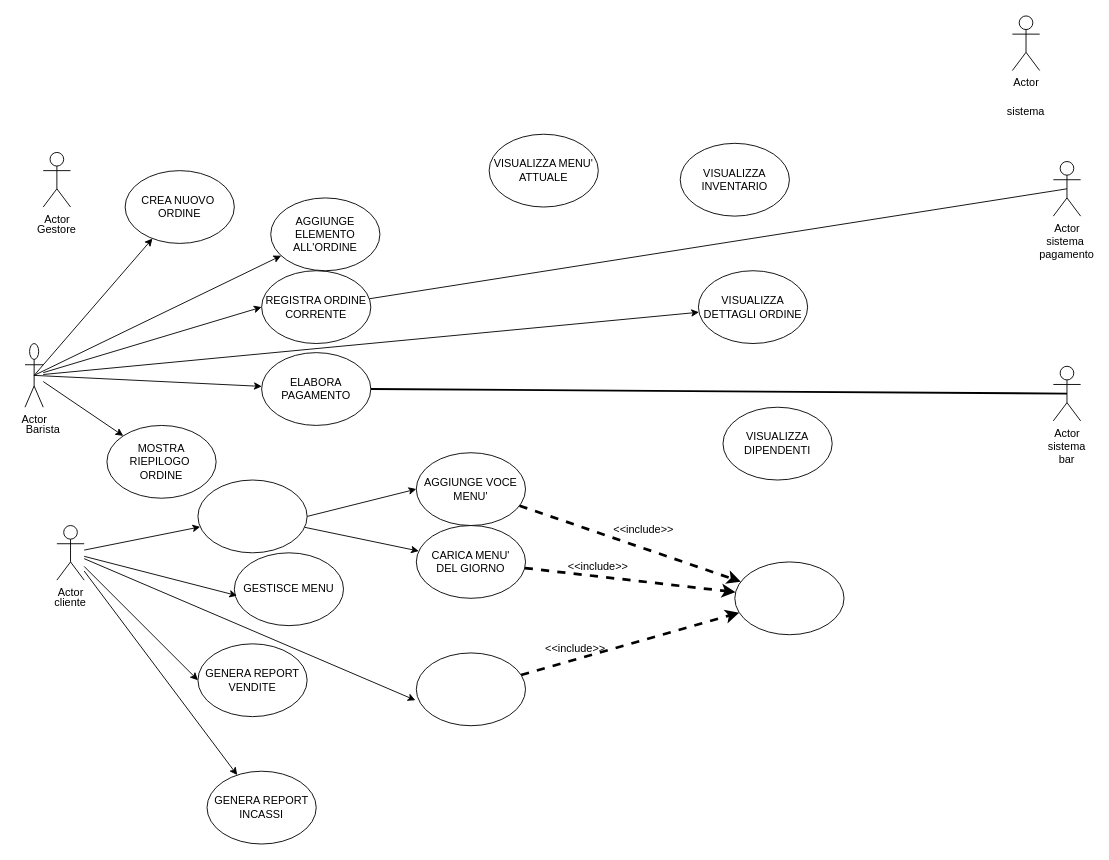
Some shapes in this 1109 by 860 pixel diagram are drawn without their labels. The centre of each missing label's shape, as x and y in pixels:
"GESTISCE INVENTARIO ADD STOCK" belongs at (470,689).
"GESTISCE PERSONALE" belongs at (252,516).
"VERIFICA PASSWORD DI SICUREZZA" belongs at (789,598).
